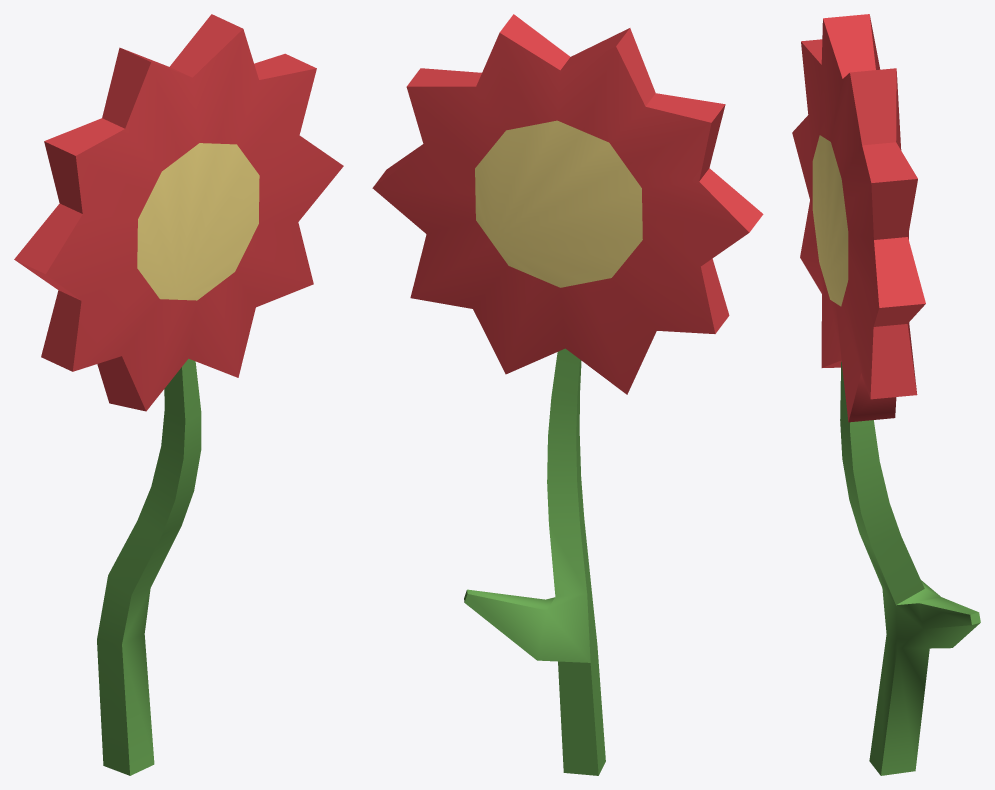
File: Blume3.fbx
The picture shows the model from 3 angles, left to right: view 1: azimuth 30°, elevation 25°; view 2: azimuth 150°, elevation 25°; view 3: azimuth 270°, elevation 25°; orthographic projection. The views are drawn at different scales.
Parts seen in each view (by area): view 1: Blume1; view 2: Blume1; view 3: Blume1.
Boxes of the visible parts, x1,y1,x2,y2 form: Blume1: (14, 14, 343, 775); Blume1: (372, 14, 763, 775); Blume1: (792, 14, 980, 775).
Bounding box in the file's own units: 130 × 259 × 59.76.
